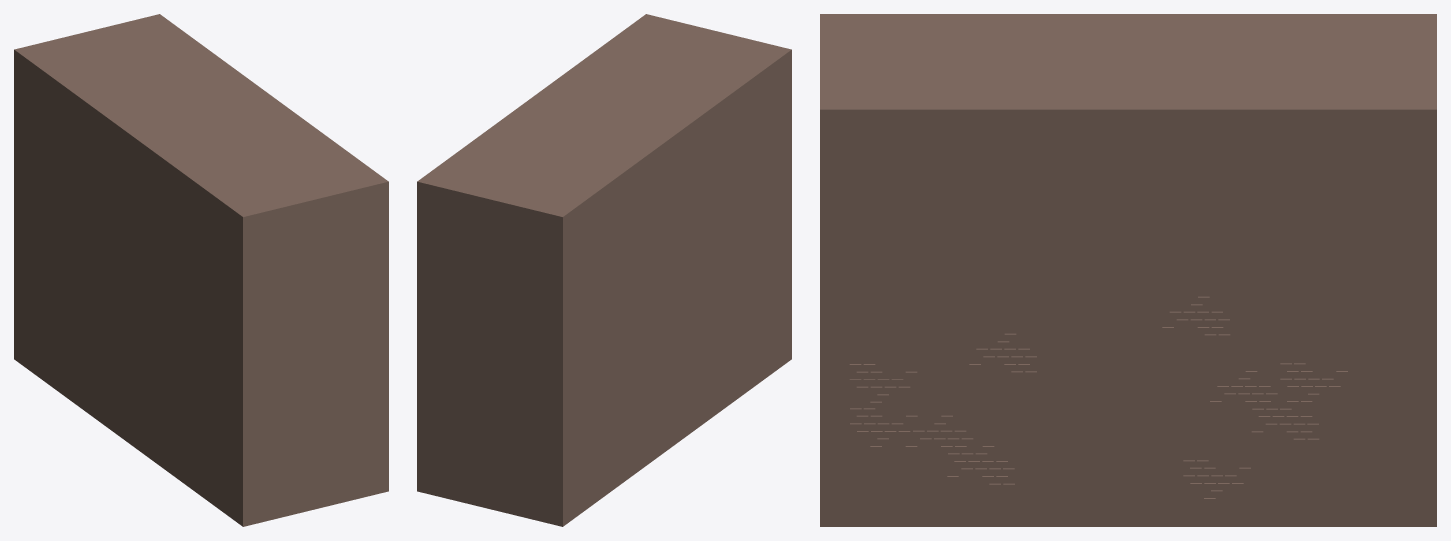
File: sm_brickwall.fbx
The picture shows the model from 3 angles, left to right: view 1: azimuth 30°, elevation 25°; view 2: azimuth 150°, elevation 25°; view 3: azimuth 270°, elevation 25°; orthographic projection. The views are drawn at different scales.
Parts seen in each view (by area): view 1: sm_brickwall; view 2: sm_brickwall; view 3: sm_brickwall.
Part boxes in pixels (<box>): sm_brickwall: <box>14,14,388,526</box>; sm_brickwall: <box>417,14,791,526</box>; sm_brickwall: <box>820,14,1436,526</box>.
Bounding box in the file's own units: 1065 × 2142 × 2870.
